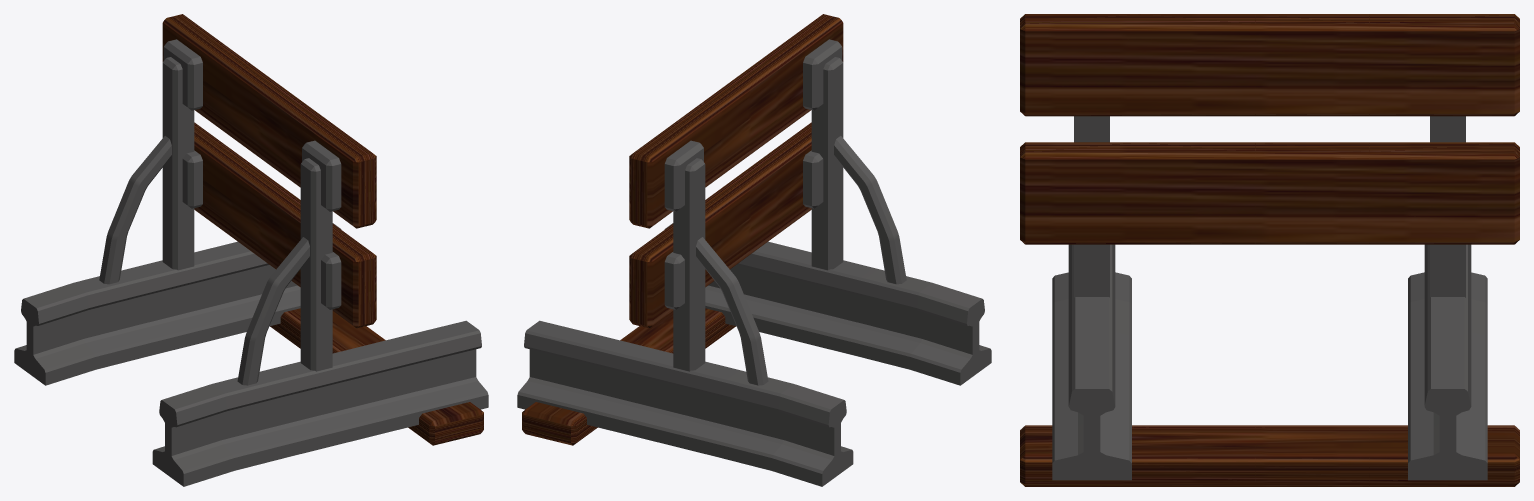
File: Rail_End.fbx
3 renders of one model, left to right at view 1: azimuth 30°, elevation 25°; view 2: azimuth 150°, elevation 25°; view 3: azimuth 270°, elevation 25°, orthographic. The views are drawn at different scales.
Parts seen in each view (by area): view 1: TrackStopper; view 2: TrackStopper; view 3: TrackStopper.
Boxes of the visible parts, x1,y1,x2,y2 form: TrackStopper: [14, 14, 488, 486]; TrackStopper: [517, 14, 991, 486]; TrackStopper: [1020, 14, 1519, 486].
Bounding box in the file's own units: 178 × 172 × 197.
2 materials, 1 textured.
